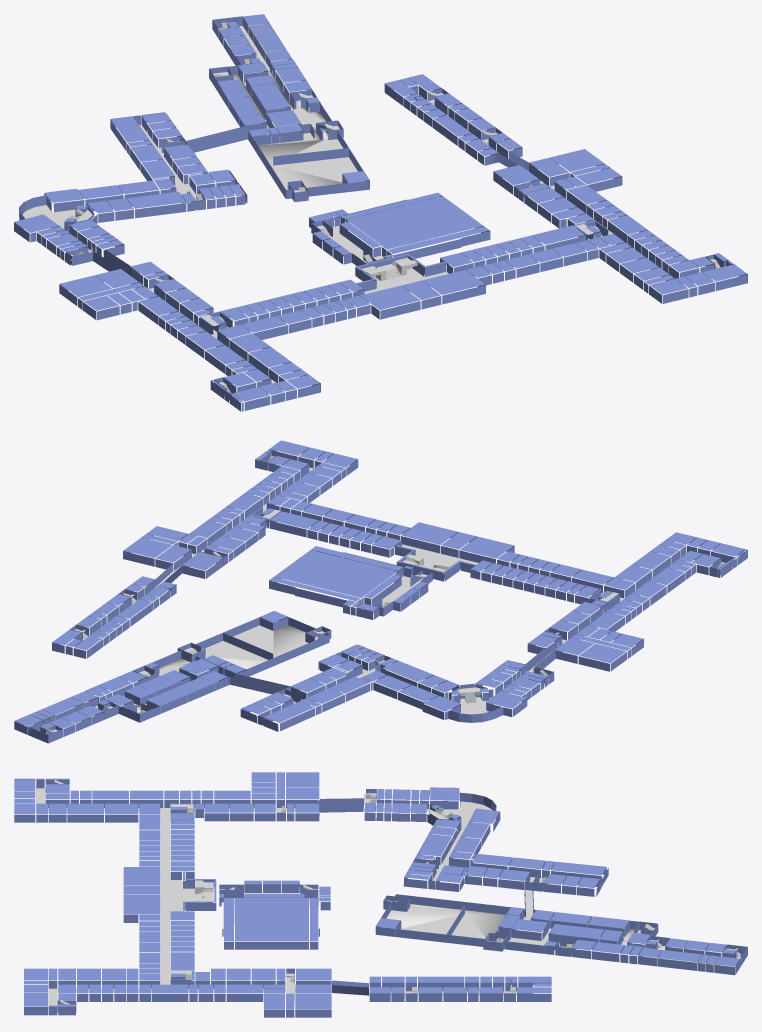
Rendered from dstu_2.glb.
The picture shows the model from 3 angles, top to bottom: view 1: azimuth 30°, elevation 25°; view 2: azimuth 150°, elevation 25°; view 3: azimuth 270°, elevation 25°; orthographic projection. The views are drawn at different scales.
Parts seen in each view (by area): view 1: 2, 7.2; view 2: 2, 7.2; view 3: 2, 7.2.
Part boxes in pixels (x1=…): 2: x1=14, y1=74, x2=747, y2=411; 7.2: x1=209, y1=14, x2=369, y2=201; 2: x1=52, y1=440, x2=747, y2=731; 7.2: x1=14, y1=611, x2=331, y2=743; 2: x1=14, y1=772, x2=608, y2=1017; 7.2: x1=375, y1=894, x2=747, y2=975.
Bounding box in the file's own units: 180 × 4 × 235.
